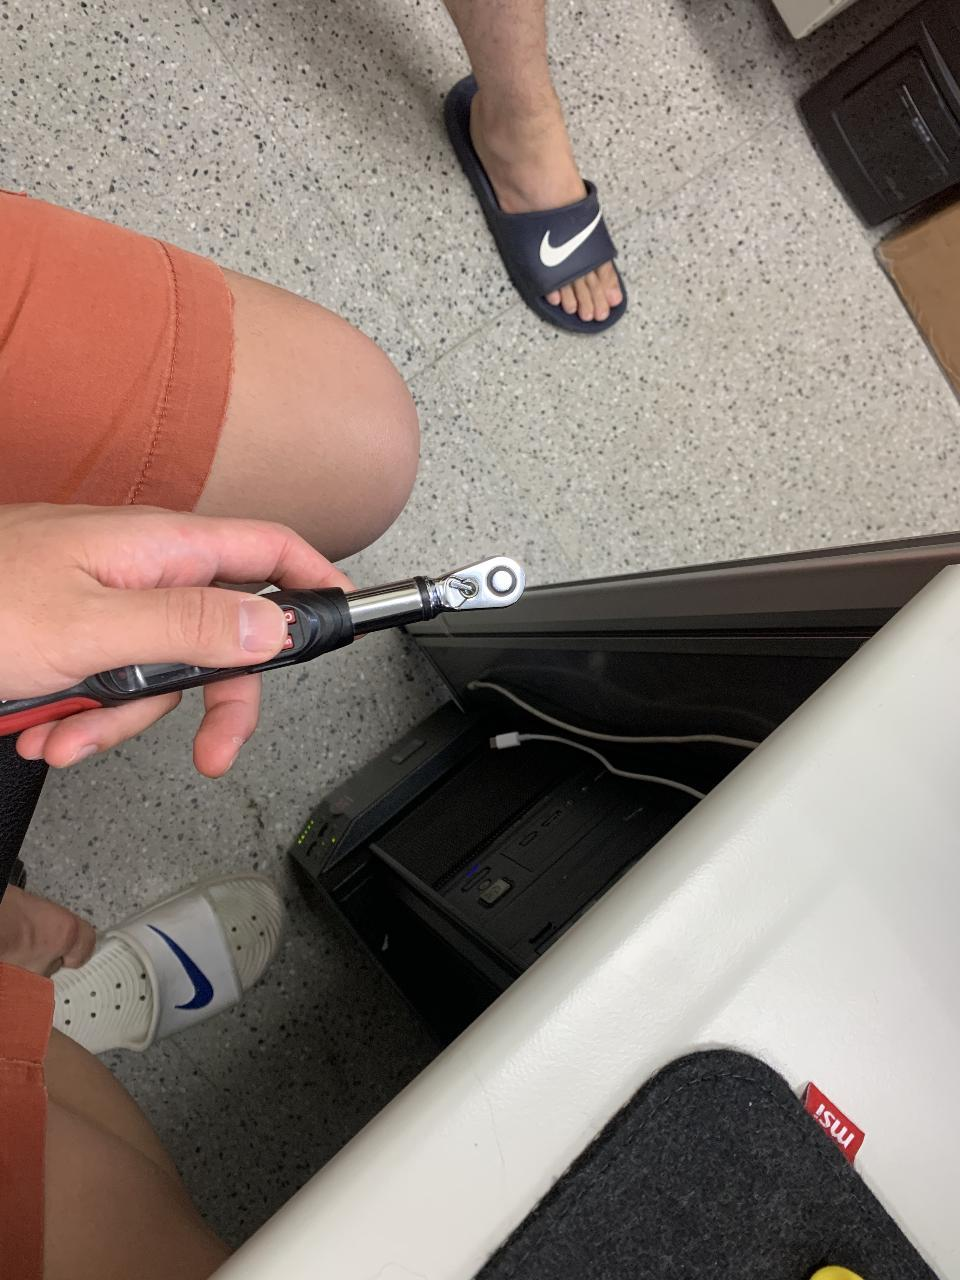Tool: (426, 552, 530, 614)
